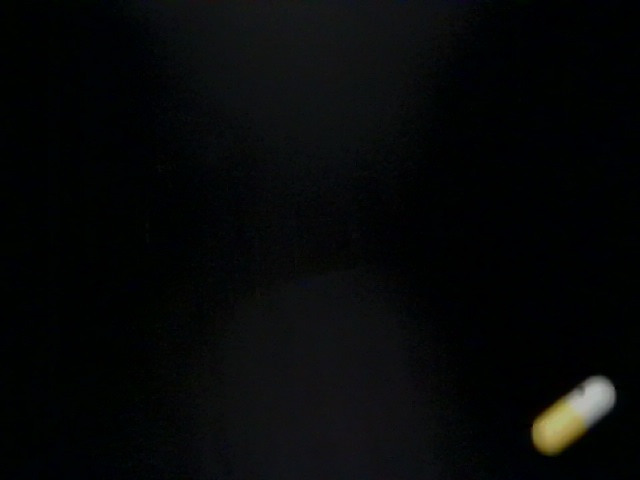YHLJ: (278, 44, 347, 134)
